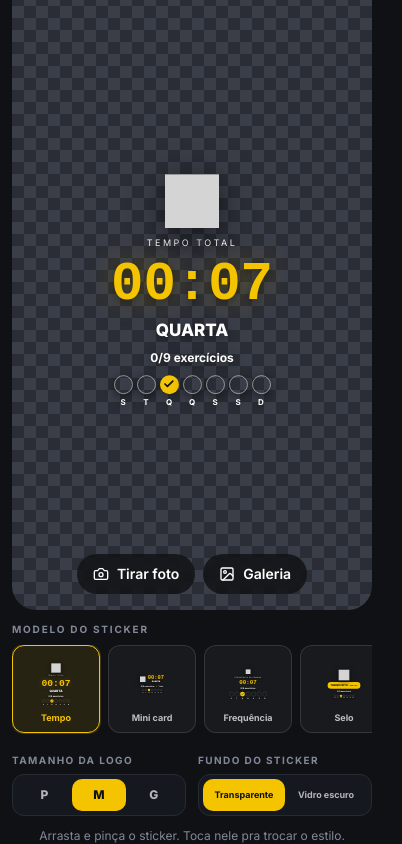
WorkoutStickerEditor › tap changes style, drag moves without changing style
(page scrolled)
Press the mouse on the element with test id "sticker" at (192, 290), box left=111, top=174, right=273, bottom=407
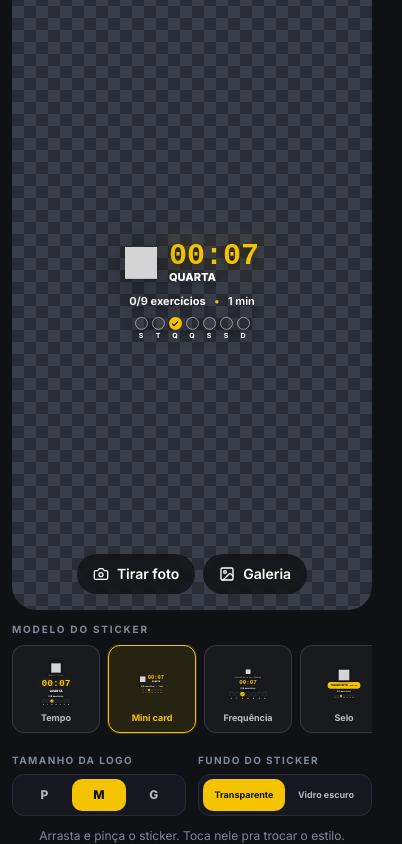
Expected: the element with test id "sticker-mini" shows "0/9", left=129, top=294, right=148, bottom=308
Expected: the element with test id "sticker" has attribute data-style="mini"
Press the mouse on the element with test id "sticker" at (141, 263), box left=125, top=239, right=259, bottom=340
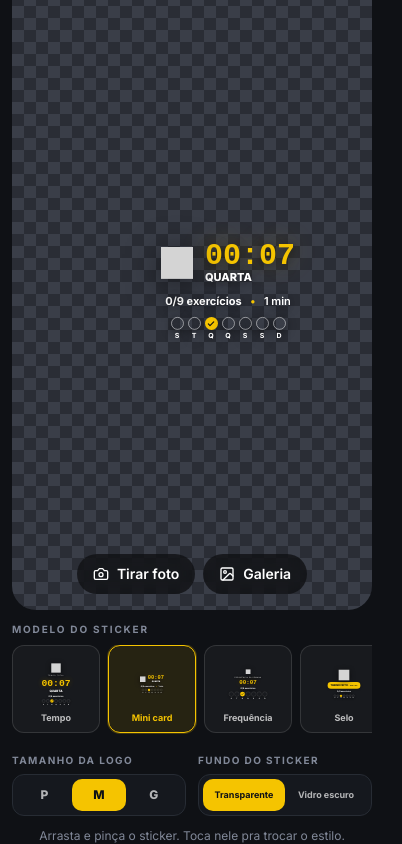
Expected: the element with test id "sticker" has attribute data-style="mini", left=161, top=239, right=295, bottom=340
